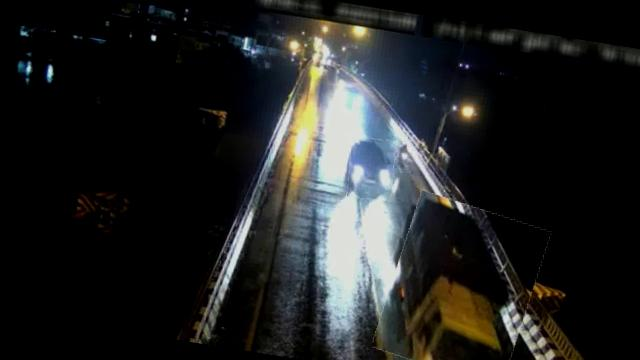Car: (344, 136, 399, 202)
Truck: (374, 191, 547, 360)
